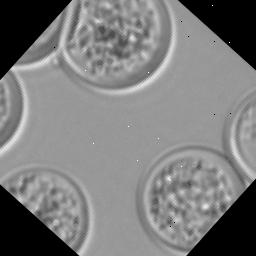picoshell: (136, 146, 243, 256), (58, 0, 173, 92), (0, 166, 93, 256), (12, 1, 73, 71), (223, 91, 256, 181), (0, 72, 28, 156)
